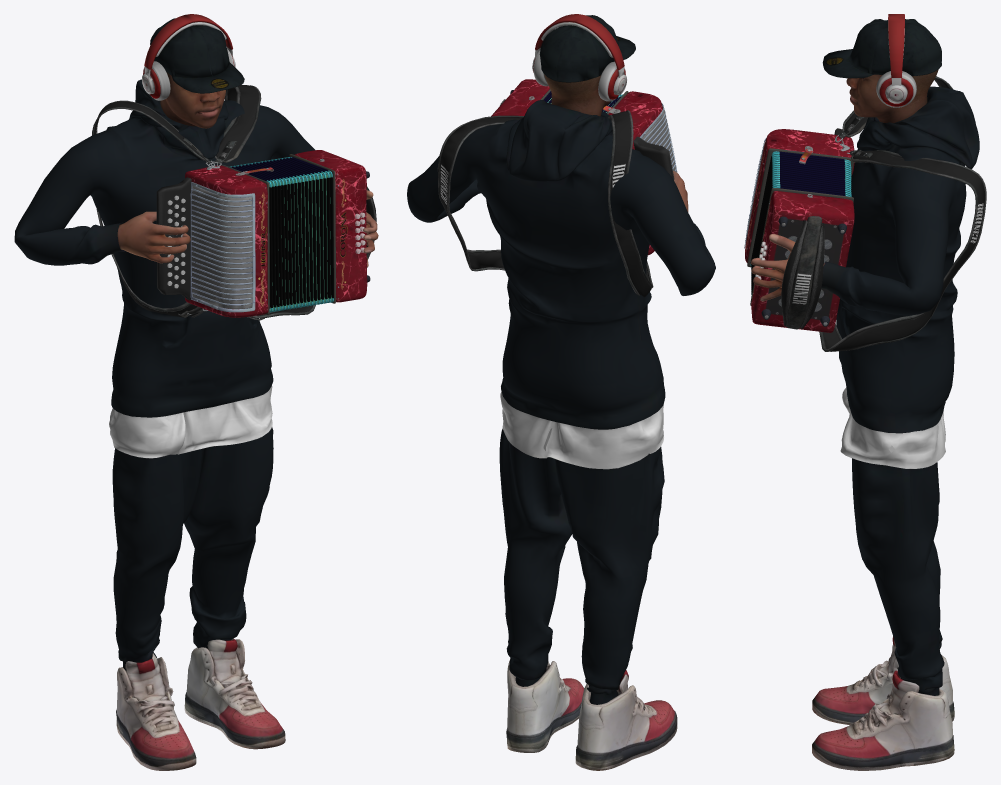
File: pelao-grip-v1.glb
3 views of the same model, side by side, from view 1: azimuth 30°, elevation 25°; view 2: azimuth 150°, elevation 25°; view 3: azimuth 270°, elevation 25° (orthographic).
Visible parts, largest first — view 1: Pelao.001, parrilla, ACC_Caja de los bajos, izquierda.007, ACC_Caja de parrilla, derecha.007, ACC_Diapason Acrden.007, ACC_rejilla.007, ACC_cuerpo1_2.014, ACC_Fuelle20.006, ACC_cuerpo1_2.001, ACC_borde_parrilla.007; view 2: Pelao.001, ACC_cuerpo1_2.001, ACC_cuerpo1_2.014, ACC_Caja de parrilla, derecha.007, ACC_Caja de los bajos, izquierda.007, ACC_Diapason Acrden.007, parrilla; view 3: Pelao.001, ACC_Caja de los bajos, izquierda.007, ACC_cuerpo1_2.014, ACC_cuerpo1_1.007, ACC_Caja de parrilla, derecha.007, ACC_cuerpo1_2.001.
Part boxes in pixels (box(x1,y1,x2,y2)): Pelao.001: box(14, 14, 378, 770); parrilla: box(191, 185, 252, 309); ACC_Caja de los bajos, izquierda.007: box(289, 150, 367, 303); ACC_Caja de parrilla, derecha.007: box(185, 164, 269, 317); ACC_Diapason Acrden.007: box(156, 177, 191, 300); ACC_rejilla.007: box(191, 188, 252, 305); ACC_cuerpo1_2.014: box(210, 84, 315, 320); ACC_Fuelle20.006: box(241, 159, 332, 310); ACC_cuerpo1_2.001: box(92, 100, 215, 317); ACC_borde_parrilla.007: box(190, 182, 255, 312); Pelao.001: box(407, 14, 715, 770); ACC_cuerpo1_2.001: box(608, 110, 653, 297); ACC_cuerpo1_2.014: box(437, 115, 523, 271); ACC_Caja de parrilla, derecha.007: box(607, 91, 662, 255); ACC_Caja de los bajos, izquierda.007: box(491, 79, 550, 116); ACC_Diapason Acrden.007: box(633, 136, 674, 179); parrilla: box(642, 106, 676, 171); Pelao.001: box(751, 14, 979, 770); ACC_Caja de los bajos, izquierda.007: box(750, 188, 854, 332); ACC_cuerpo1_2.014: box(819, 150, 986, 351); ACC_cuerpo1_1.007: box(781, 216, 824, 329); ACC_Caja de parrilla, derecha.007: box(745, 129, 854, 267); ACC_cuerpo1_2.001: box(835, 76, 952, 142).
Bounding box in the file's own units: 76.63 × 167 × 50.77.
12 materials, 10 textured.
